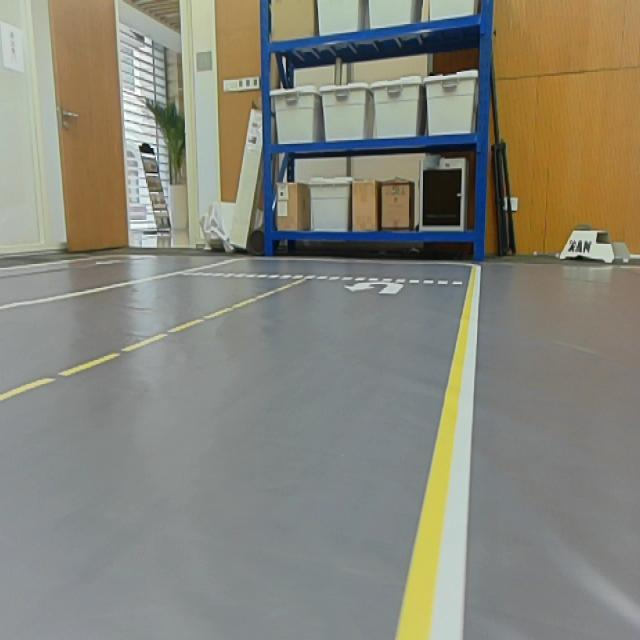left_lane: (0, 278, 303, 407)
right_lane: (399, 266, 482, 638), (0, 259, 231, 311)
